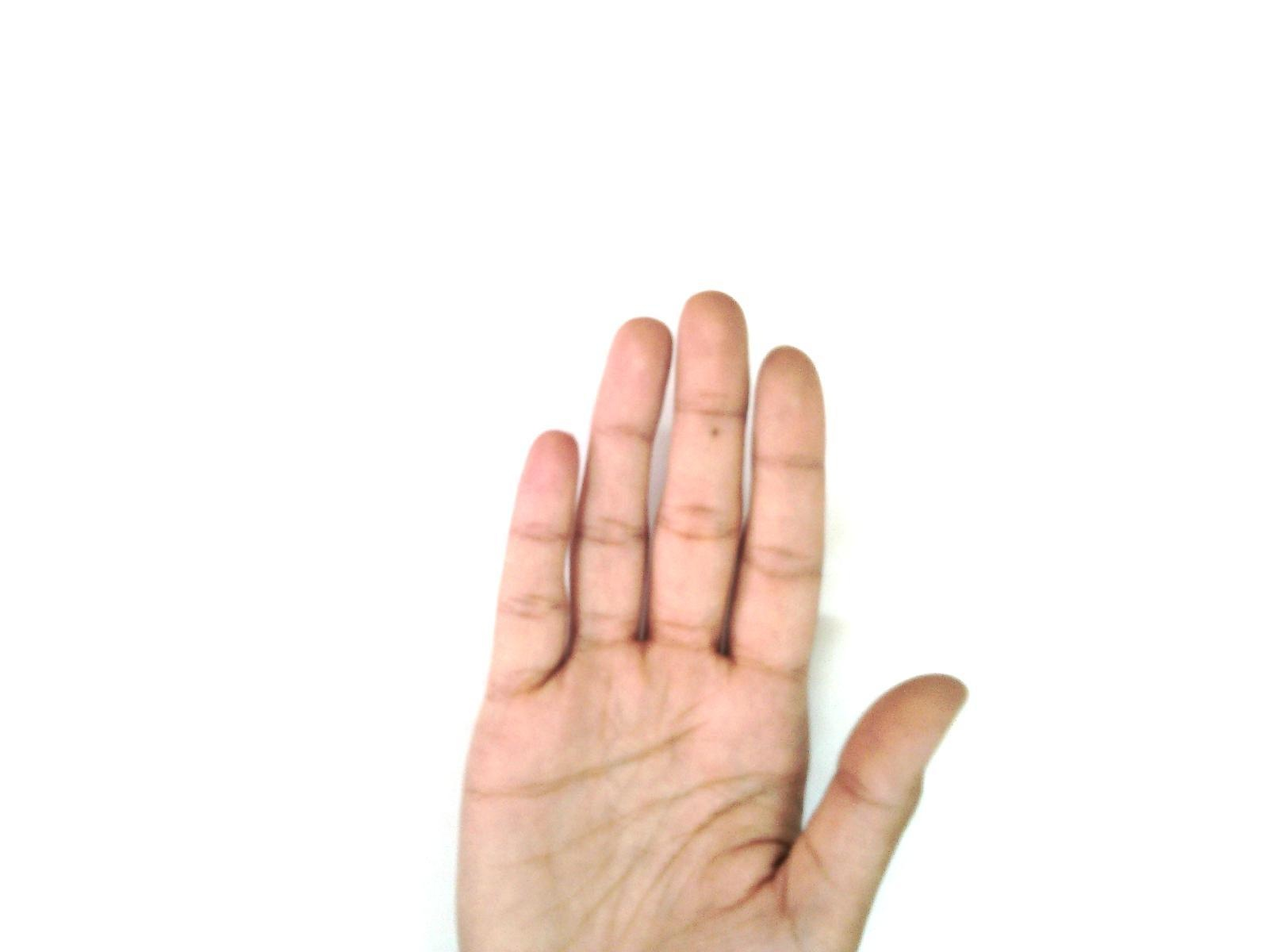open_palm: (450, 289, 971, 951)
